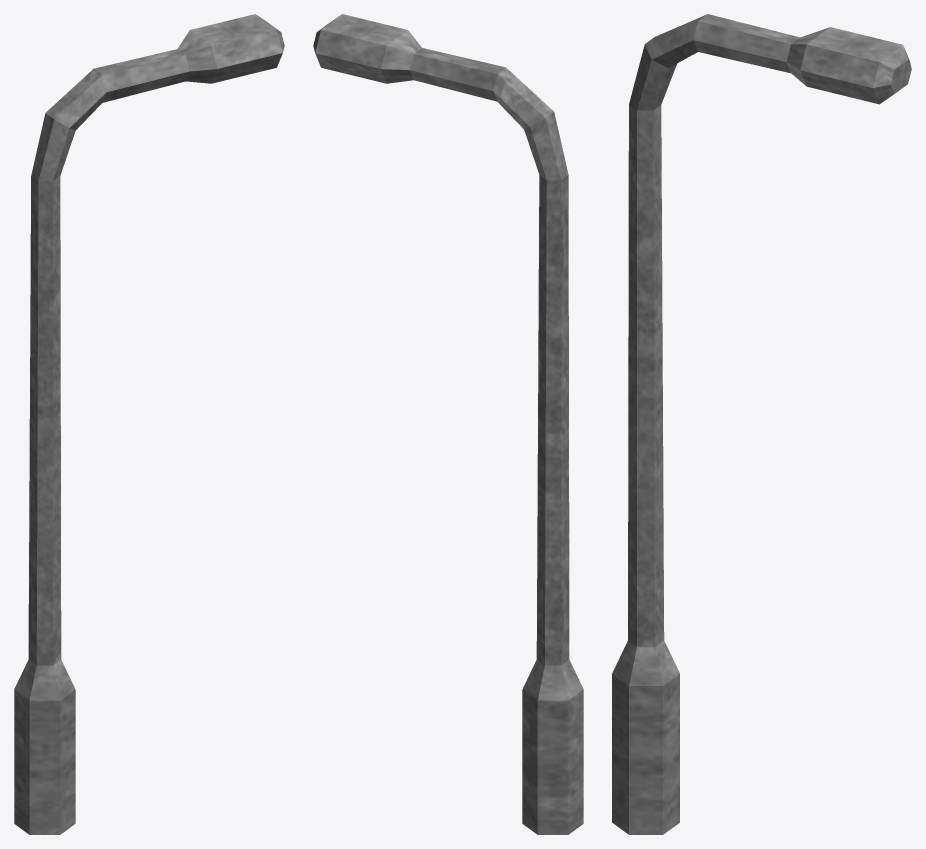
The model's file is LampPost.fbx.
3 renders of one model, left to right at view 1: azimuth 30°, elevation 25°; view 2: azimuth 150°, elevation 25°; view 3: azimuth 330°, elevation 25°, orthographic. The views are drawn at different scales.
Parts seen in each view (by area): view 1: Cylinder; view 2: Cylinder; view 3: Cylinder.
Part boxes in pixels (box(x1,y1,x2,y2)): Cylinder: box(14, 14, 284, 834); Cylinder: box(313, 14, 583, 834); Cylinder: box(612, 14, 911, 834).
Size of the model in its own units: 221 by 624 by 50.35.
